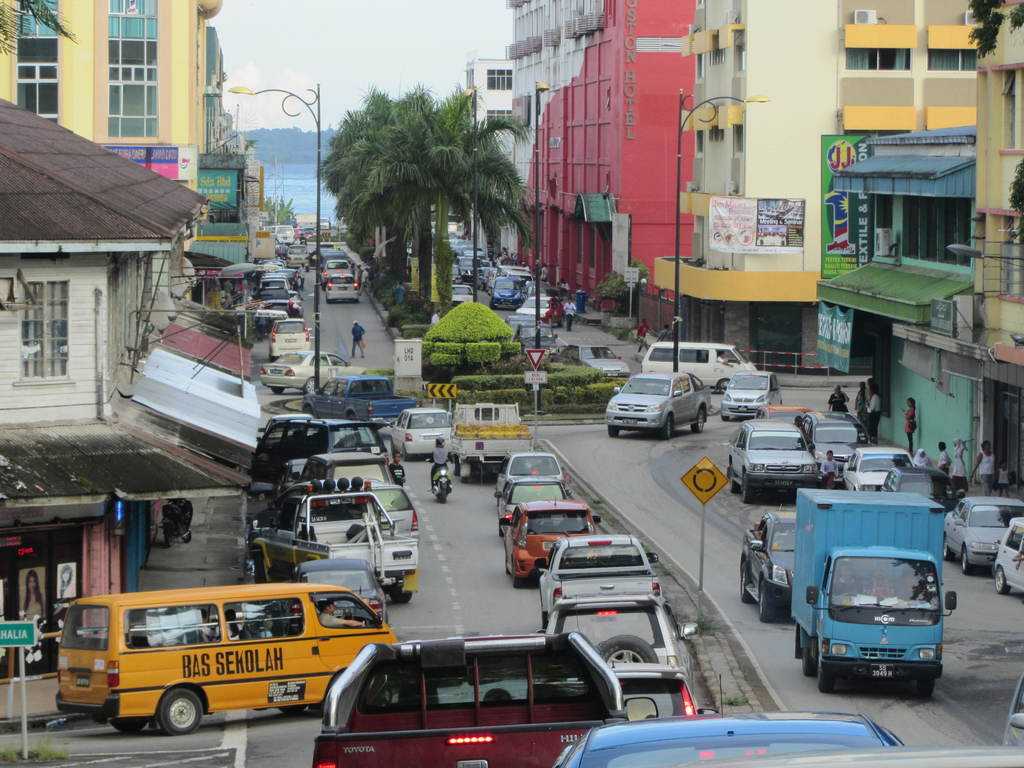Car: (249, 229, 1023, 767)
